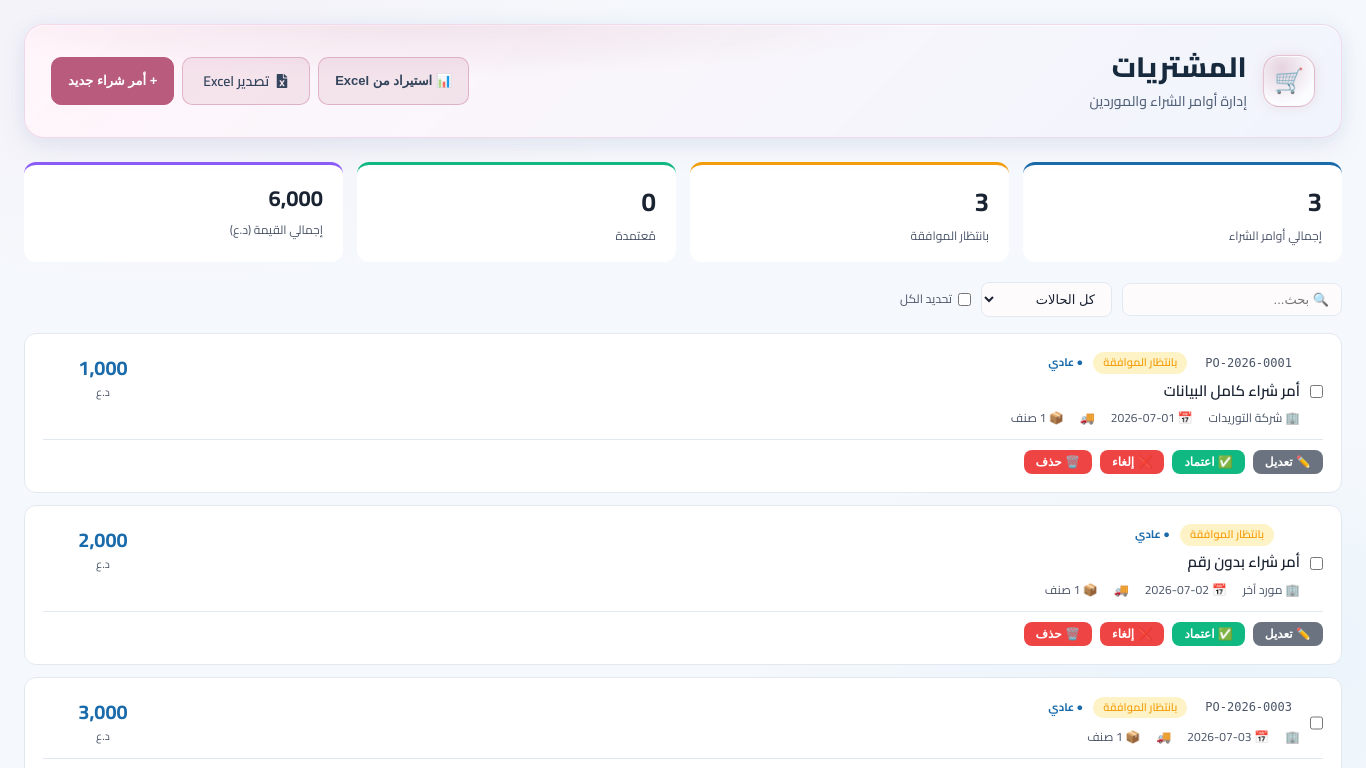
Scenario: ProcurementPage — search crash guard › searching by poNo still matches records that do have one
Type "po-2026-0003" into the field with placeholder "🔍 بحث..." at (1232, 299), box [1122,283,1342,316]
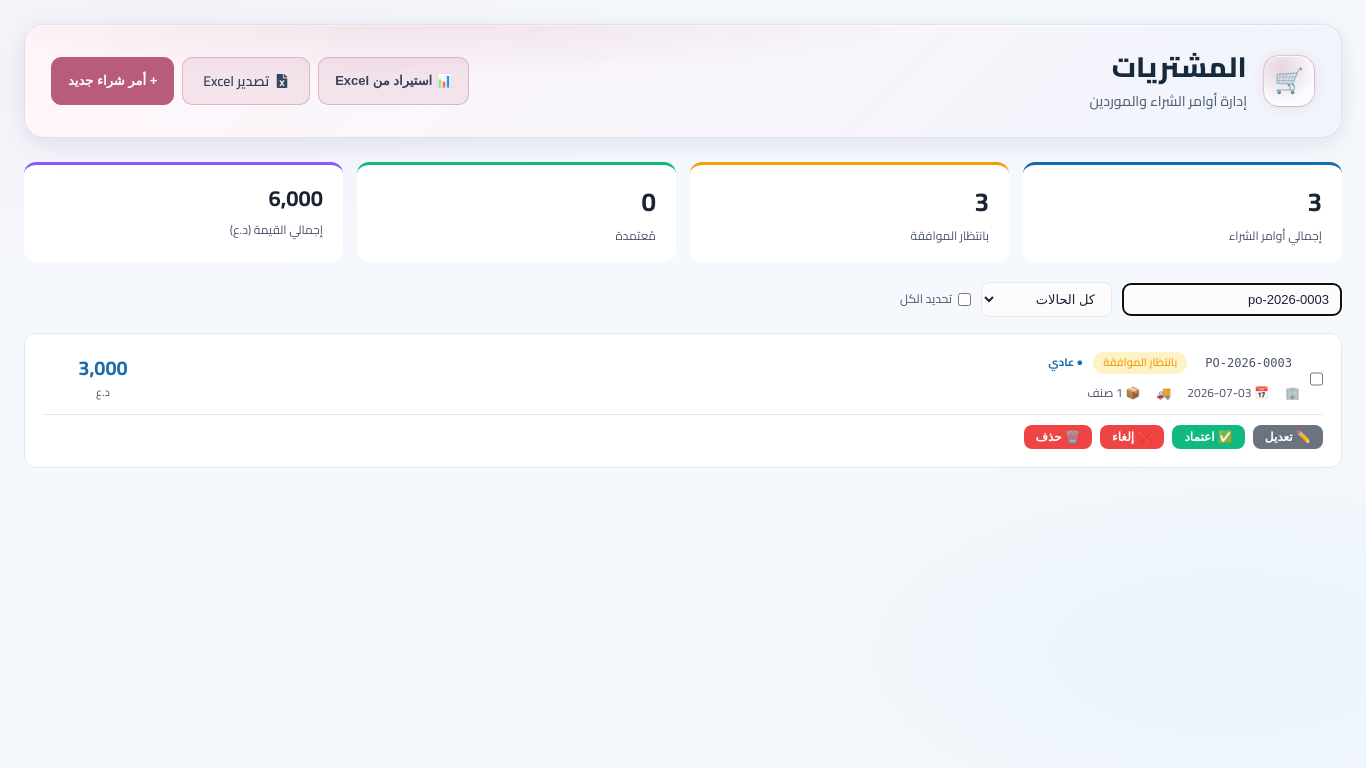
expect the text "PO-2026-0003" is shown: met, box [1205,356,1292,370]
expect the heading "أمر شراء كامل البيانات" is gone: met
